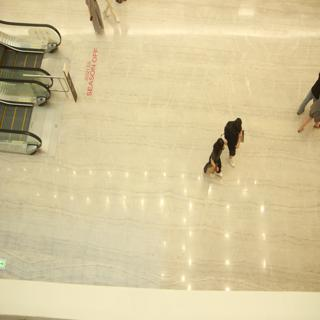person: (222, 107, 250, 166), (196, 130, 225, 183)
